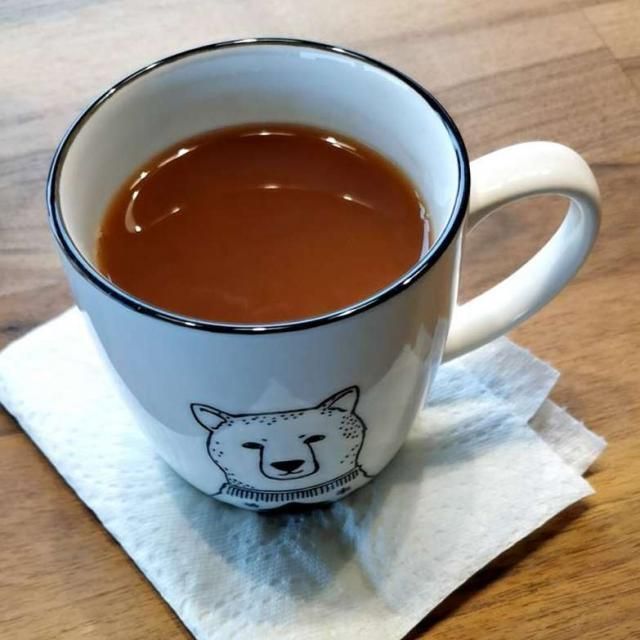tea: (92, 125, 425, 324)
